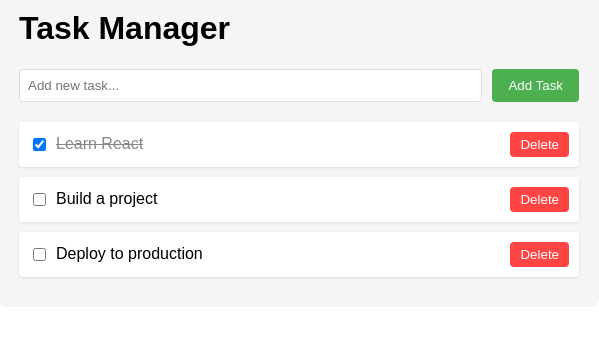
Test case: App Component › adds a new task
Type "New Task" into the field with placeholder "Add new task..." at (251, 85), box [19,69,482,102]
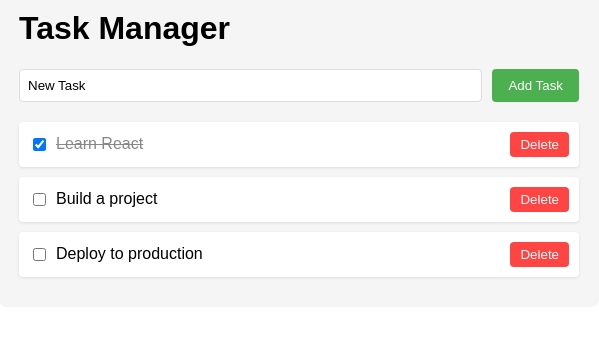
Click the button "Add Task" at (536, 85), box [492,69,579,102]
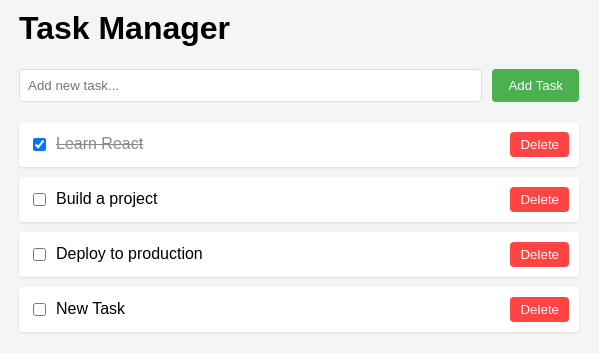
Expected: the text "New Task" is shown, [56,300,125,317]
